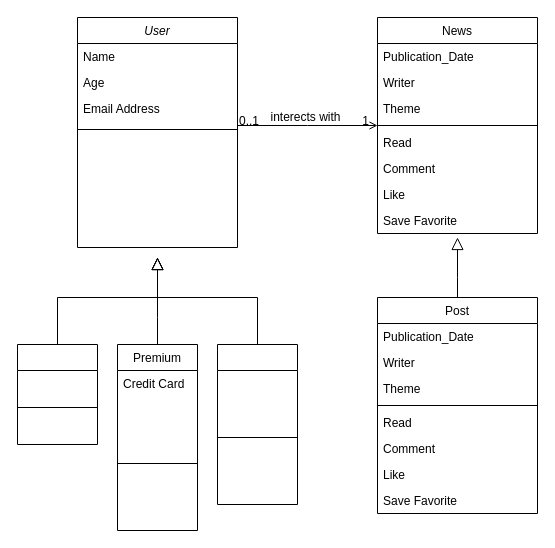
The diagram is 555 pixels wide and 548 high, and some of its shapes have lost their labels. Each missing label, with the centre of its shape:
Authors: (57,394)
Basic: (257,424)
